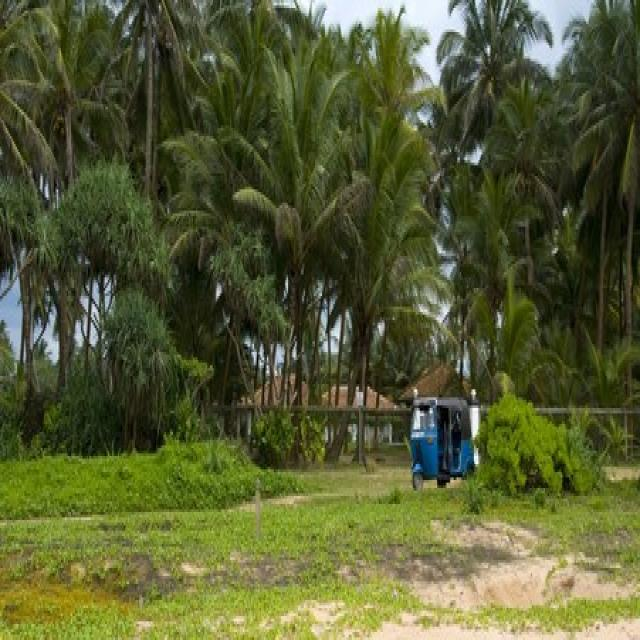three wheeler: (410, 397, 475, 491)
